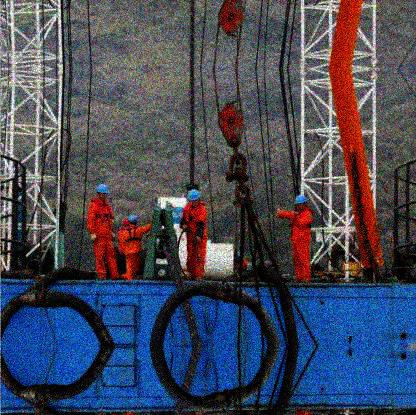helmet: (186, 189, 202, 209), (95, 185, 109, 203), (294, 195, 307, 213), (128, 214, 139, 226)
